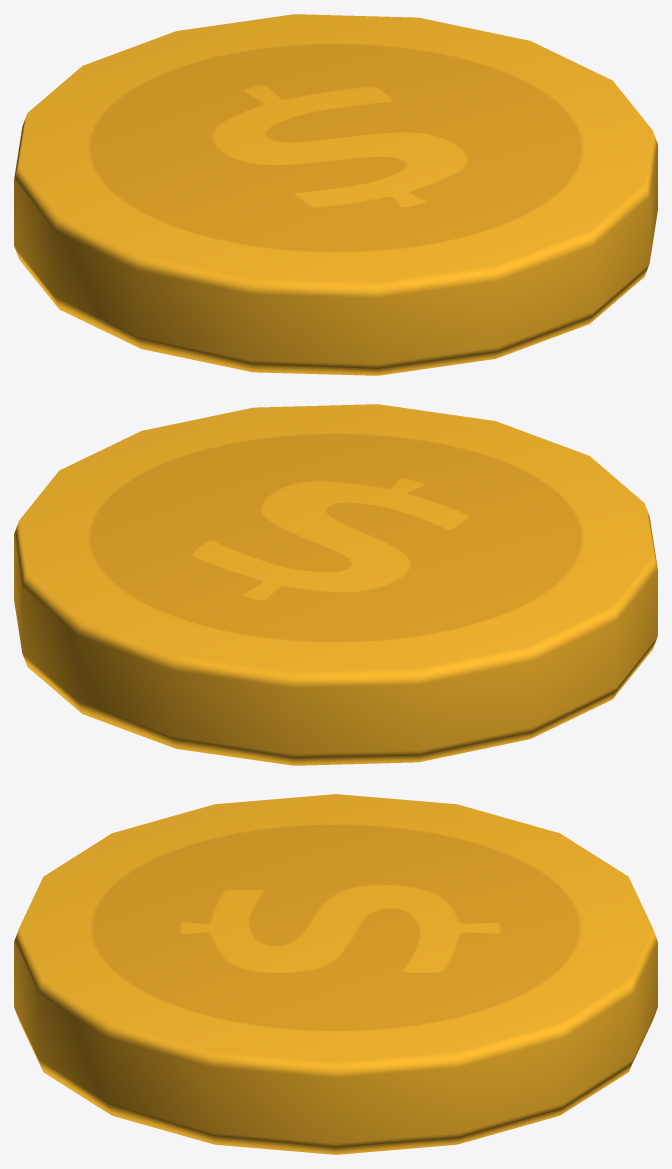
The model's file is Coin.glb.
The picture shows the model from 3 angles, top to bottom: view 1: azimuth 30°, elevation 25°; view 2: azimuth 150°, elevation 25°; view 3: azimuth 270°, elevation 25°; orthographic projection.
Visible parts, largest first — view 1: Coin; view 2: Coin; view 3: Coin.
Boxes of the visible parts, x1=… form: Coin: x1=14, y1=14, x2=657, y2=375; Coin: x1=14, y1=404, x2=657, y2=765; Coin: x1=14, y1=794, x2=657, y2=1154.
Size of the model in its own units: 0.0173 by 0.00275 by 0.0173.
Materials: 1 (1 with a texture image).
